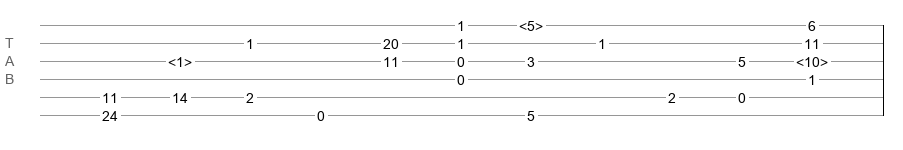0: (317, 108, 325, 118), (457, 54, 465, 64), (457, 72, 465, 82), (738, 90, 746, 100)
1: (246, 36, 254, 46), (457, 36, 465, 46), (457, 18, 465, 28), (598, 36, 606, 46), (808, 72, 816, 82)
11: (102, 90, 118, 100), (383, 54, 399, 64), (804, 36, 820, 46)
14: (172, 90, 188, 100)
2: (246, 90, 254, 100), (668, 90, 676, 100)
20: (383, 36, 399, 46)
24: (102, 108, 118, 118)
3: (527, 54, 535, 64)
5: (527, 108, 535, 118), (738, 54, 746, 64)
6: (808, 18, 816, 28)
harmonic: (796, 54, 828, 64), (168, 54, 192, 64), (519, 18, 543, 28)
